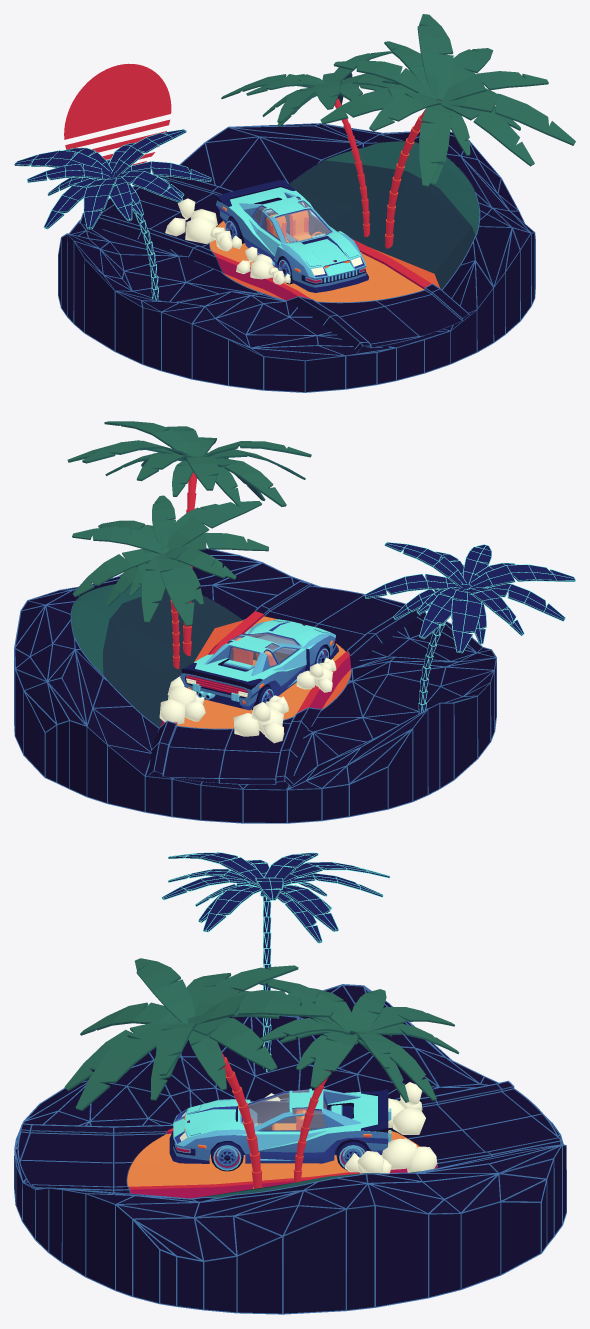
3 views of the same model, one above another, from view 1: azimuth 30°, elevation 25°; view 2: azimuth 150°, elevation 25°; view 3: azimuth 270°, elevation 25° (orthographic). The views are drawn at different scales.
Visible parts, largest first — view 1: Island_8, CarBody_7, Icosphere_10, Doors_2, CarBumper_1; view 2: Island_8, CarBody_7, Icosphere_10, Doors_2; view 3: Island_8, CarBody_7, Icosphere_10, Doors_2, Wheel_FL_5, CarBumper_1.
Boxes of the visible parts, x1,y1,x2,y2 form: Island_8: (14, 14, 575, 392); CarBody_7: (216, 180, 366, 278); Icosphere_10: (165, 198, 290, 284); Doors_2: (251, 200, 336, 261); CarBumper_1: (291, 266, 368, 292); Island_8: (14, 421, 575, 823); CarBody_7: (180, 619, 335, 710); Icosphere_10: (159, 658, 336, 743); Doors_2: (229, 635, 306, 687); Island_8: (14, 852, 566, 1314); CarBody_7: (173, 1088, 391, 1163); Icosphere_10: (265, 1082, 437, 1173); Doors_2: (251, 1088, 310, 1160); Wheel_FL_5: (211, 1141, 243, 1171); CarBumper_1: (169, 1131, 210, 1163).
Size of the model in its own units: 8.91 by 4.12 by 7.68.
2 materials, 2 textured.
